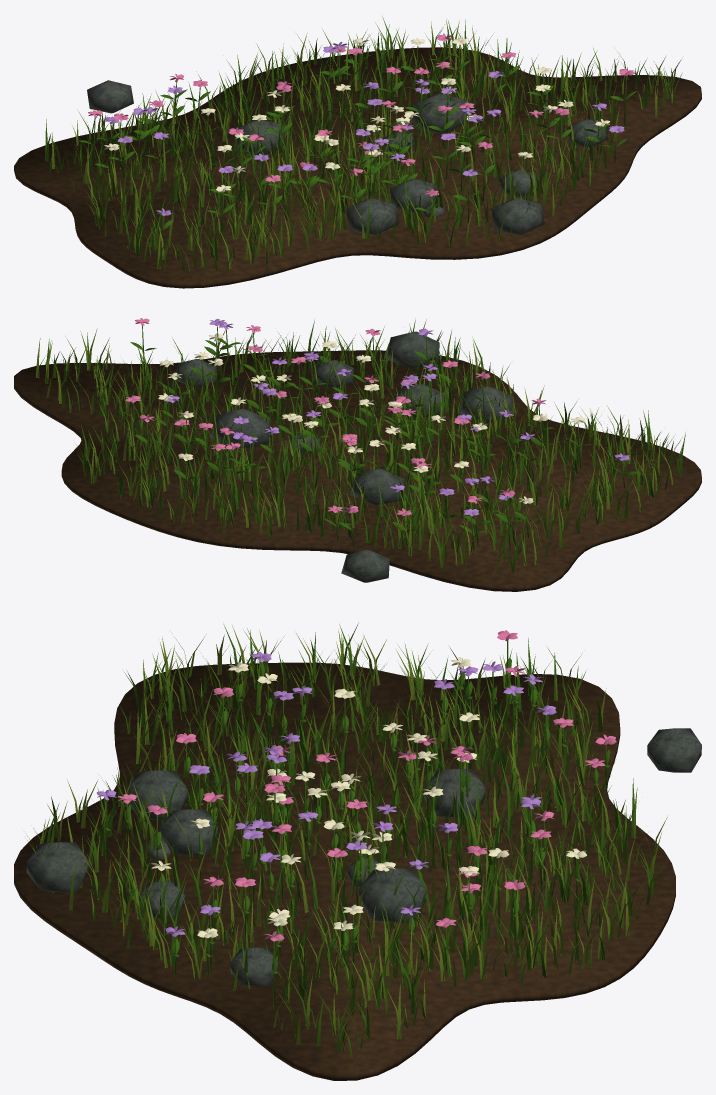
File: 08_grass_patch_v2_wildflowers.glb
The picture shows the model from 3 angles, top to bottom: view 1: azimuth 30°, elevation 25°; view 2: azimuth 150°, elevation 25°; view 3: azimuth 270°, elevation 25°; orthographic projection. The views are drawn at different scales.
Visible parts, largest first — view 1: Ground cover variant | irregular closed earth patch, Ground cover variant | modeled grass blades, Ground cover variant | wildflowers or seed heads, 08_grass_patch_v2_wildflowers | Hill | weathered slate; view 2: Ground cover variant | irregular closed earth patch, Ground cover variant | modeled grass blades, Ground cover variant | wildflowers or seed heads, 08_grass_patch_v2_wildflowers | Hill | weathered slate; view 3: Ground cover variant | irregular closed earth patch, Ground cover variant | modeled grass blades, Ground cover variant | wildflowers or seed heads, 08_grass_patch_v2_wildflowers | Hill | weathered slate.
Boxes of the visible parts, left/top/right/bottom form: Ground cover variant | irregular closed earth patch: left=14, top=47, right=701, bottom=288; Ground cover variant | modeled grass blades: left=45, top=16, right=682, bottom=272; Ground cover variant | wildflowers or seed heads: left=79, top=33, right=636, bottom=242; 08_grass_patch_v2_wildflowers | Hill | weathered slate: left=87, top=80, right=608, bottom=234; Ground cover variant | irregular closed earth patch: left=14, top=350, right=701, bottom=591; Ground cover variant | modeled grass blades: left=35, top=318, right=685, bottom=572; Ground cover variant | wildflowers or seed heads: left=121, top=318, right=637, bottom=550; 08_grass_patch_v2_wildflowers | Hill | weathered slate: left=175, top=331, right=513, bottom=582; Ground cover variant | irregular closed earth patch: left=14, top=662, right=675, bottom=1080; Ground cover variant | modeled grass blades: left=27, top=623, right=667, bottom=1057; Ground cover variant | wildflowers or seed heads: left=96, top=630, right=616, bottom=1006; 08_grass_patch_v2_wildflowers | Hill | weathered slate: left=26, top=728, right=701, bottom=986.
Bounding box in the file's own units: 5.38 × 0.5394 × 3.8.
Materials: 7 (4 with a texture image).
